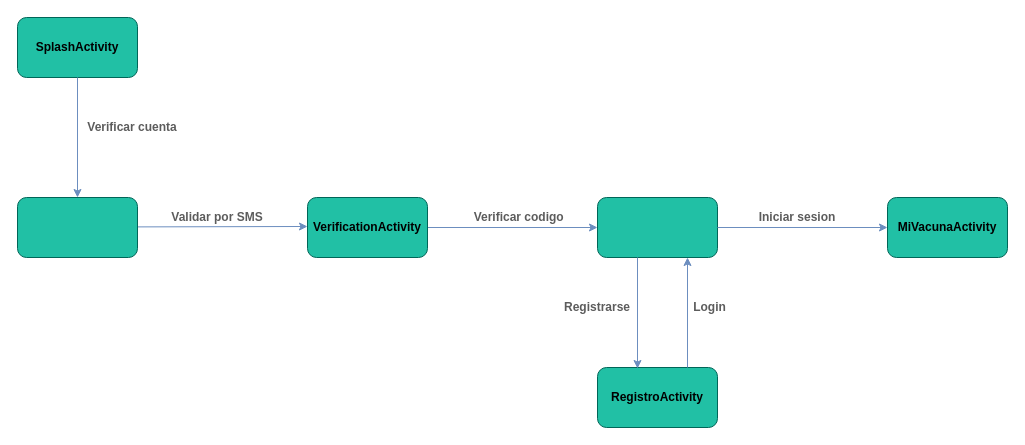
Some shapes in this 1025 by 445 pixel diagram are drawn without their labels. The shapes that lost their labels are listed below. From the top down, each one's centre as x and y in pixels, then its label:
(x=77, y=227): Sms Activity
(x=657, y=227): Login Activity
